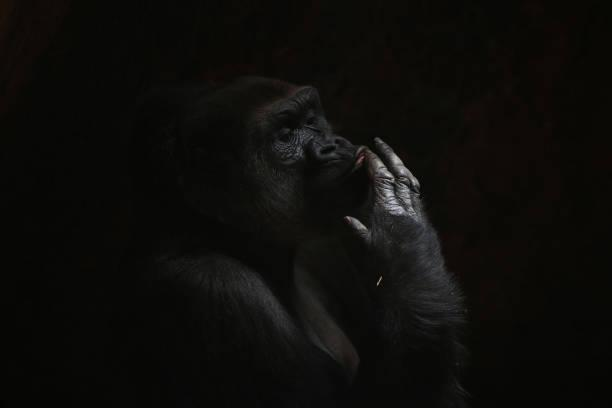gorille_Autres: (100, 75, 499, 407)
